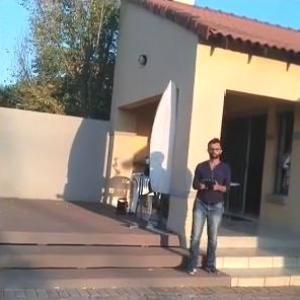follow: (180, 135, 231, 279)
